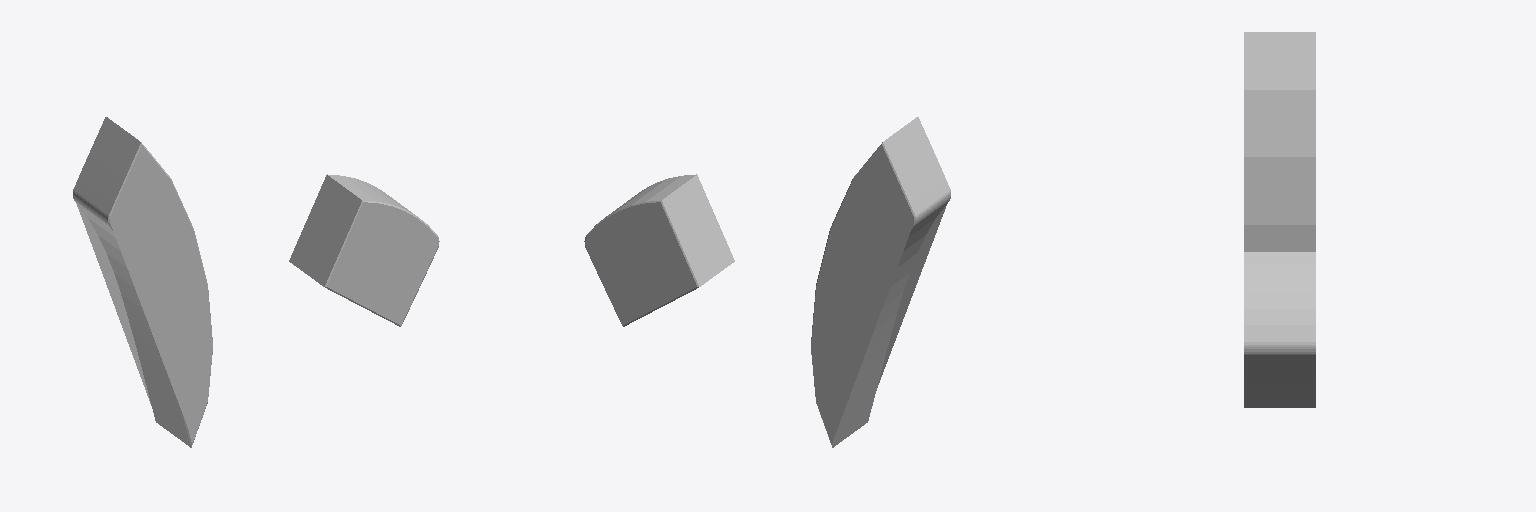
3 views of the same model, side by side, from view 1: azimuth 30°, elevation 25°; view 2: azimuth 150°, elevation 25°; view 3: azimuth 270°, elevation 25° (orthographic).
Parts seen in each view (by area): view 1: 10_Mesh.009; view 2: 10_Mesh.009; view 3: 10_Mesh.009.
Part boxes in pixels (left/top/right/bottom): 10_Mesh.009: left=73, top=117, right=439, bottom=447; 10_Mesh.009: left=584, top=117, right=950, bottom=447; 10_Mesh.009: left=1244, top=32, right=1315, bottom=407.
Size of the model in its own units: 3.78 by 3.47 by 0.7176.